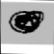correct: (8, 8, 49, 38)
